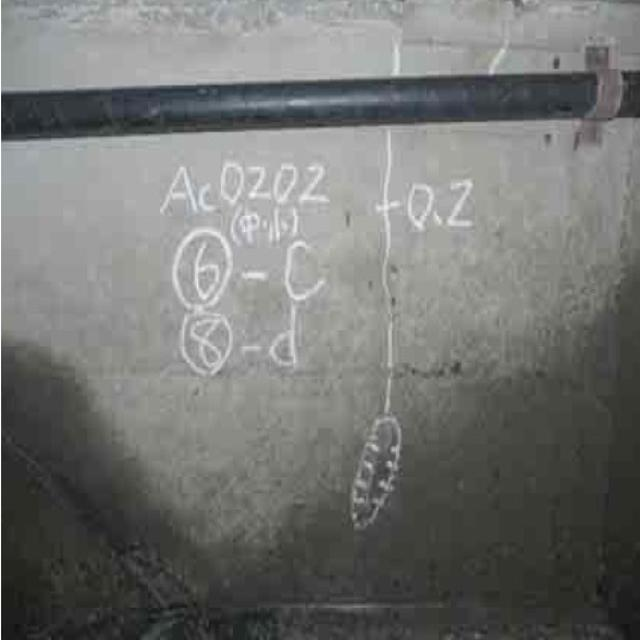leakage: (14, 351, 630, 636)
